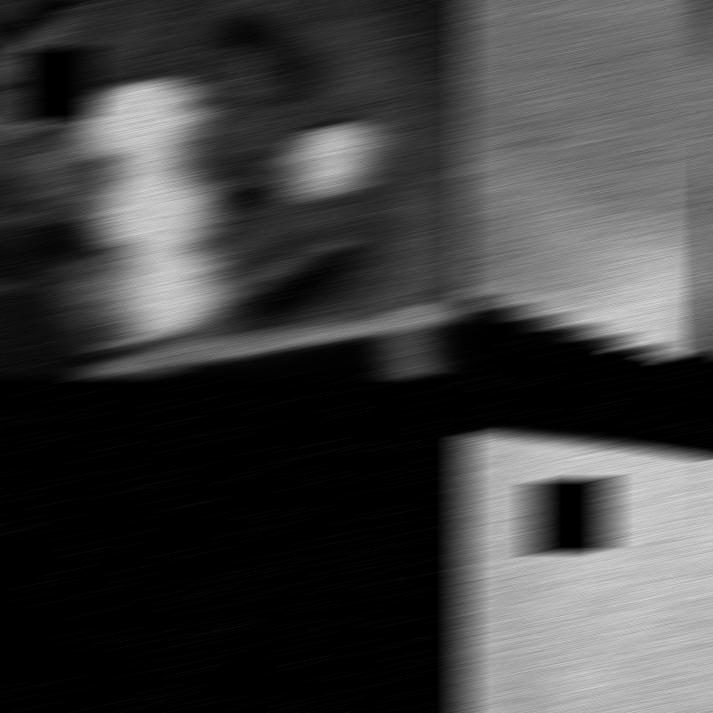Airbag: (0, 1, 469, 376), (456, 1, 713, 356), (456, 432, 713, 712)
